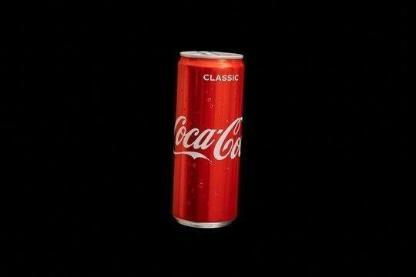Can: (171, 49, 245, 230)
